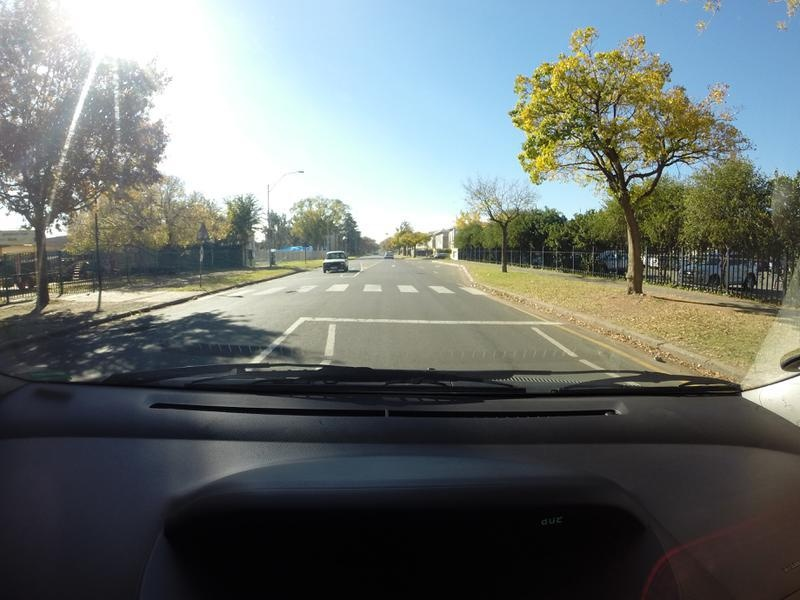pothole: (276, 283, 295, 300)
